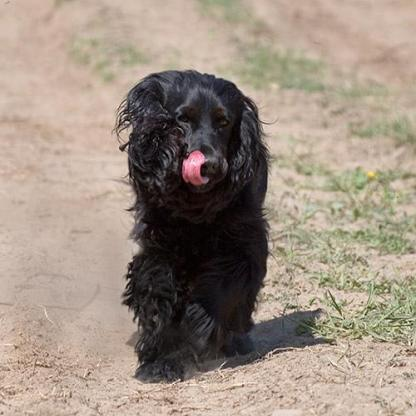cocker_spaniel: (110, 67, 274, 385)
